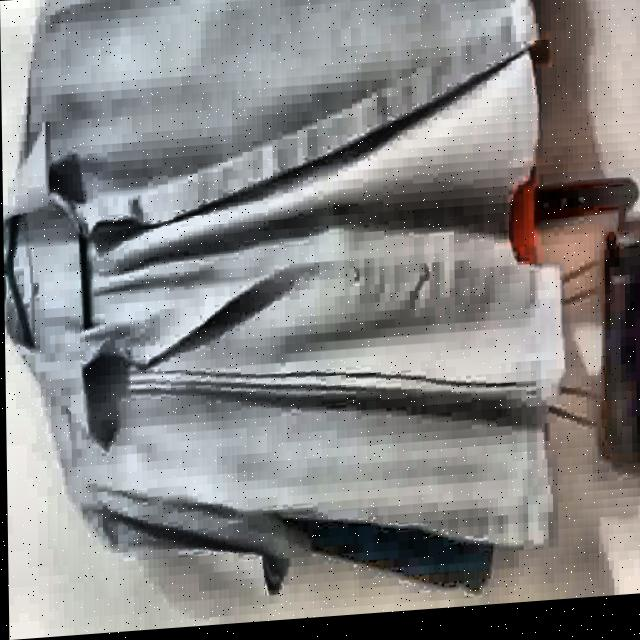clothes: (5, 0, 568, 611)
